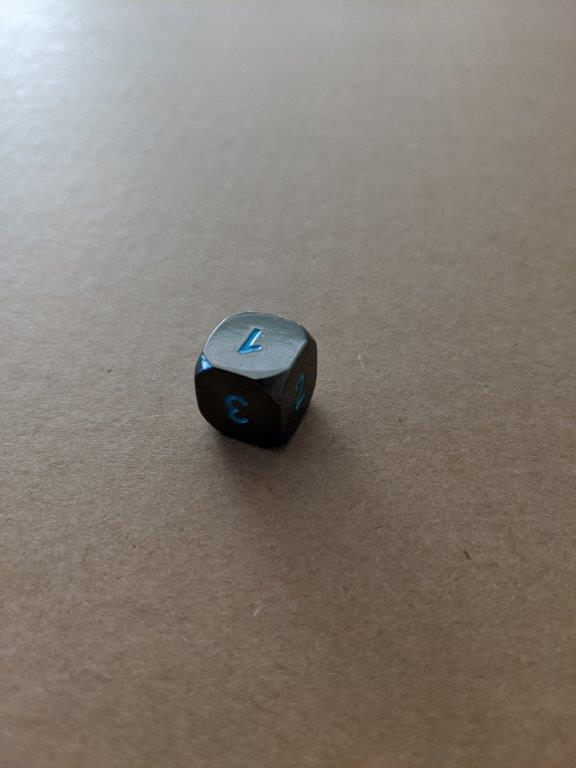d6-1: (195, 310, 319, 453)
